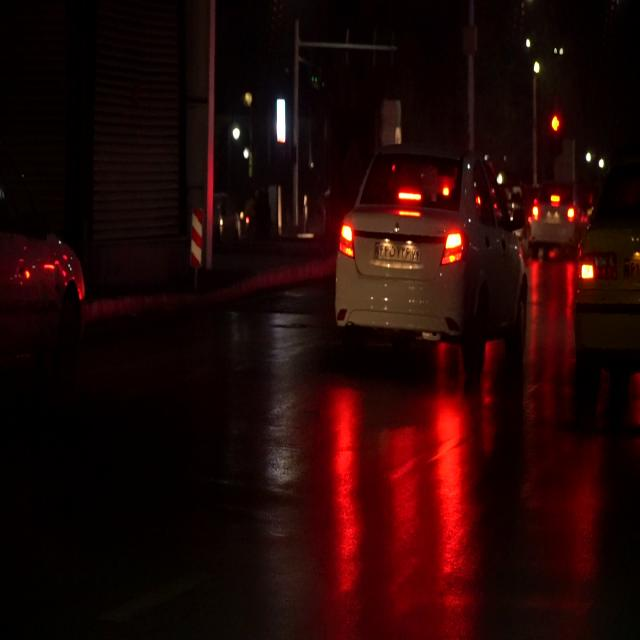car: (331, 144, 530, 355), (531, 175, 577, 250)
